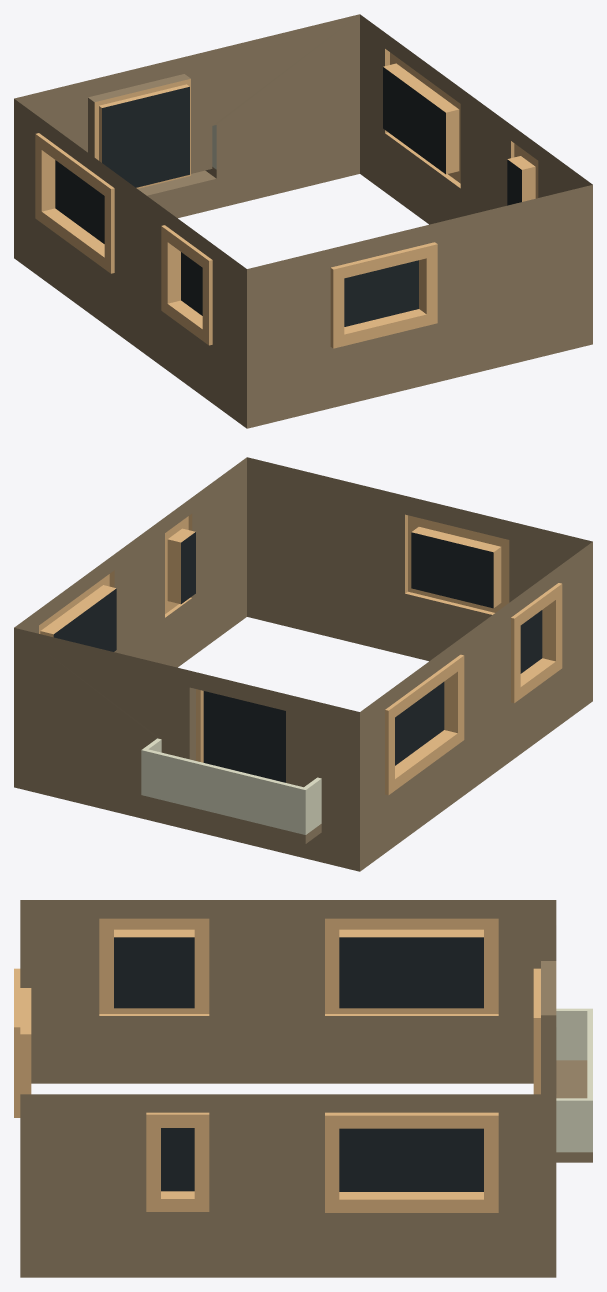
Rendered from building2_middle2.fbx.
3 renders of one model, top to bottom at view 1: azimuth 30°, elevation 25°; view 2: azimuth 150°, elevation 25°; view 3: azimuth 270°, elevation 25°, orthographic. The views are drawn at different scales.
Parts seen in each view (by area): view 1: building2_middle2; view 2: building2_middle2; view 3: building2_middle2.
Boxes of the visible parts, x1,y1,x2,y2 form: building2_middle2: [14, 14, 592, 428]; building2_middle2: [14, 457, 592, 871]; building2_middle2: [14, 900, 592, 1277].
Size of the model in its own units: 581 by 250 by 715.
